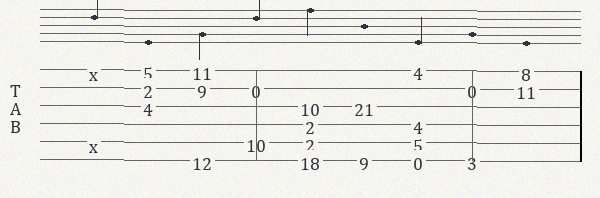0: (251, 80, 265, 96), (413, 152, 427, 168), (467, 80, 481, 96)
10: (246, 134, 270, 150), (300, 98, 324, 114)
11: (192, 62, 216, 78), (516, 80, 540, 96)
12: (192, 152, 216, 168)
18: (300, 152, 324, 168)
2: (143, 80, 157, 96), (305, 134, 319, 150), (305, 116, 319, 132)
21: (354, 98, 378, 114)
3: (467, 152, 481, 168)
4: (143, 98, 157, 114), (413, 62, 427, 78), (413, 116, 427, 132)
5: (143, 62, 157, 79), (413, 134, 427, 151)
8: (521, 62, 535, 78)
9: (197, 80, 211, 96), (359, 152, 373, 168)
x: (89, 136, 102, 149), (89, 64, 102, 77)
